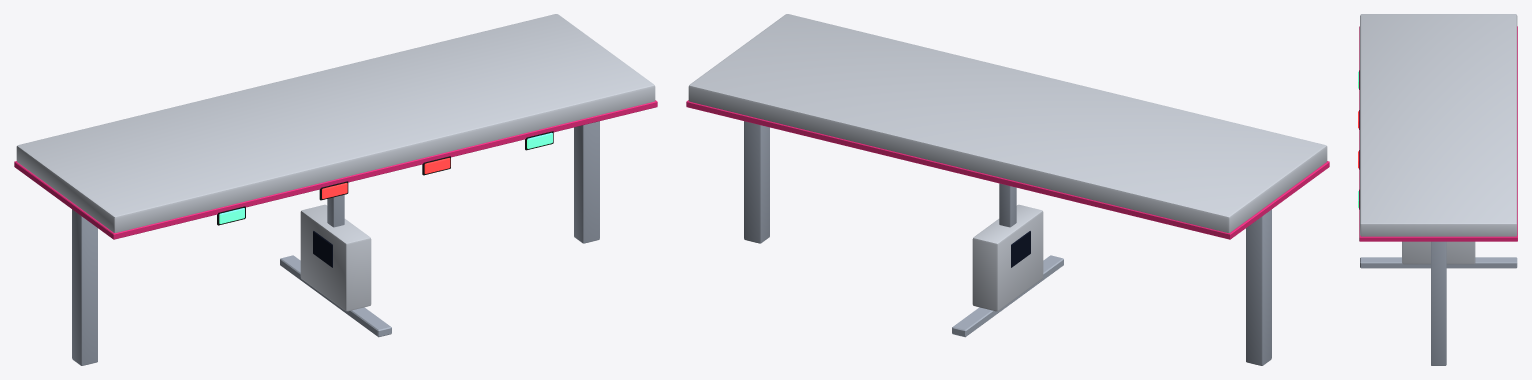
The model's file is toll_gate.glb.
3 views of the same model, side by side, from view 1: azimuth 30°, elevation 25°; view 2: azimuth 150°, elevation 25°; view 3: azimuth 270°, elevation 25° (orthographic). The views are drawn at different scales.
Visible parts, largest first — view 1: paint_white, steel, paint_pink, lamp_red, lamp_green, plastic_black; view 2: paint_white, steel, paint_pink; view 3: paint_white, steel, paint_pink.
Part boxes in pixels (x1,y1,x2,y2): paint_white: [16, 14, 655, 311]; steel: [72, 121, 599, 365]; paint_pink: [14, 100, 657, 239]; lamp_red: [322, 158, 450, 198]; lamp_green: [219, 132, 552, 223]; plastic_black: [217, 131, 553, 225]; paint_white: [688, 14, 1327, 311]; steel: [744, 121, 1271, 365]; paint_pink: [686, 100, 1329, 239]; paint_white: [1360, 14, 1517, 264]; steel: [1360, 241, 1517, 365]; paint_pink: [1359, 26, 1517, 241].
Bounding box in the file's own units: 19.1 × 6.21 × 6.11.
